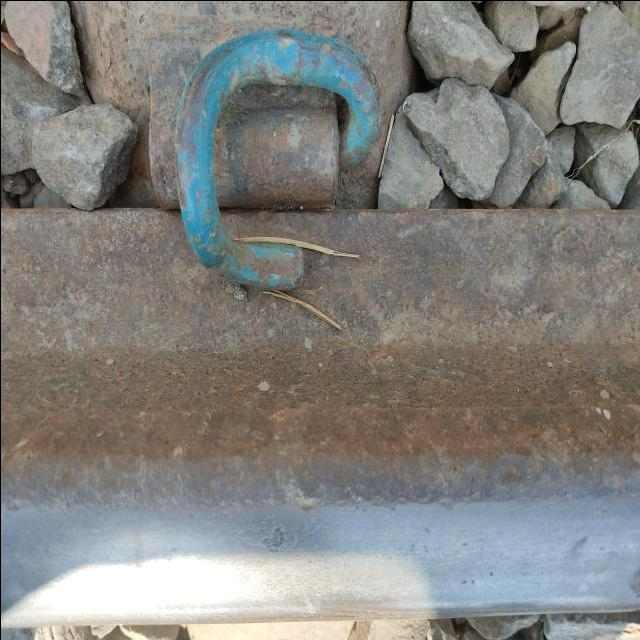broken_rail_medium: (457, 568, 495, 585), (261, 525, 283, 553), (568, 533, 586, 555)
